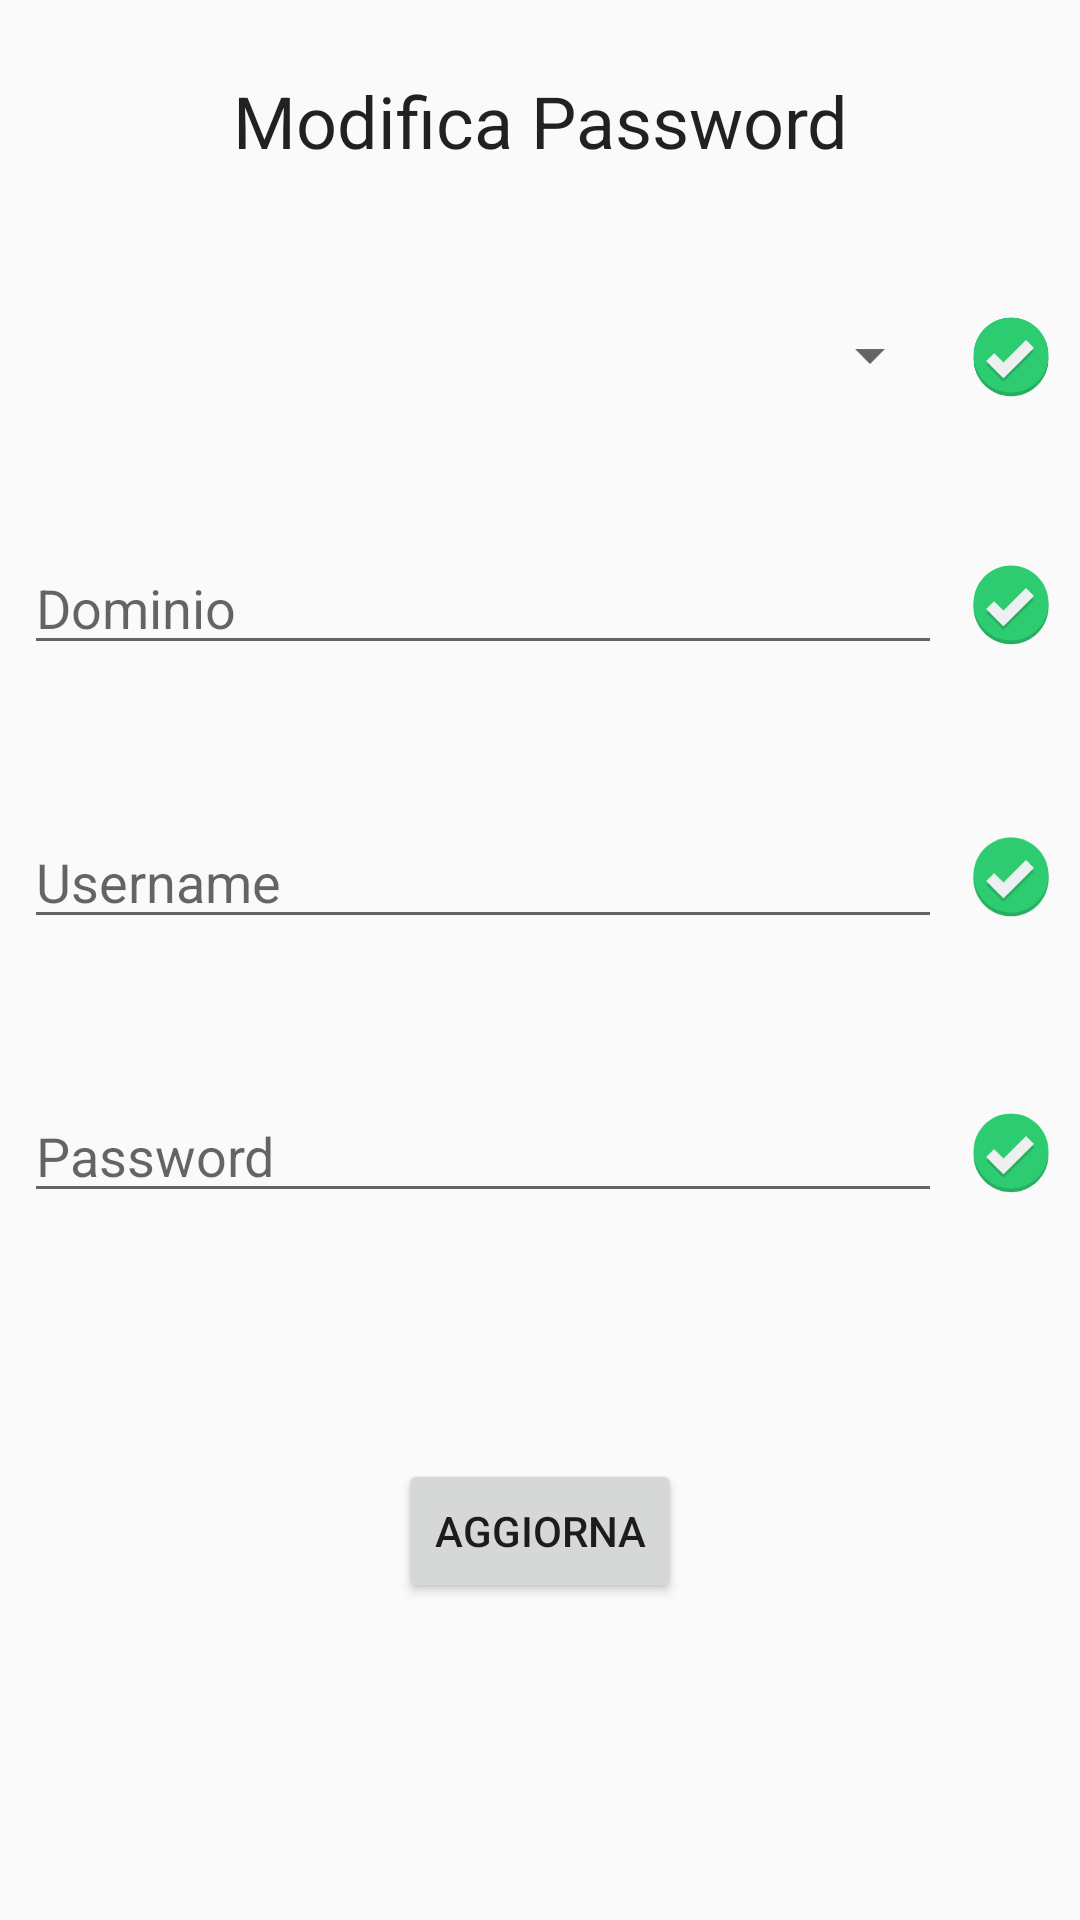

Locate icon controls on the screen. Image size 1080 × 1920, boxes as [x1=x1, y1=y1, x2=x2, y2=y2].
check: [x1=973, y1=317, x2=1049, y2=397], [x1=973, y1=565, x2=1049, y2=645], [x1=973, y1=837, x2=1049, y2=917], [x1=973, y1=1113, x2=1049, y2=1193]
